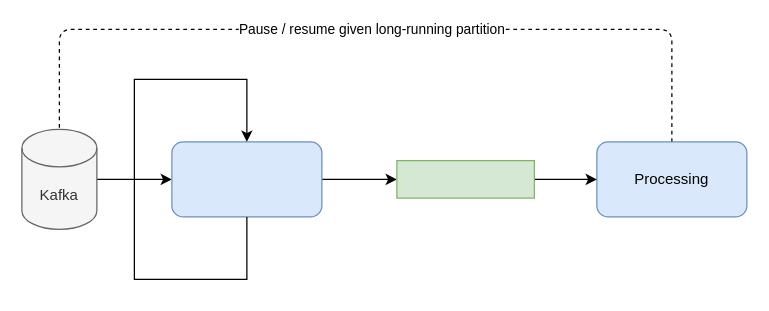
The diagram is 769 pixels wide and 311 high, and some of its shapes have lost their labels. Here are the shapes that lost their labels. From the top down, the centre of each, then its label:
the point at 246,179: Polling
the point at 465,178: Messages batch
